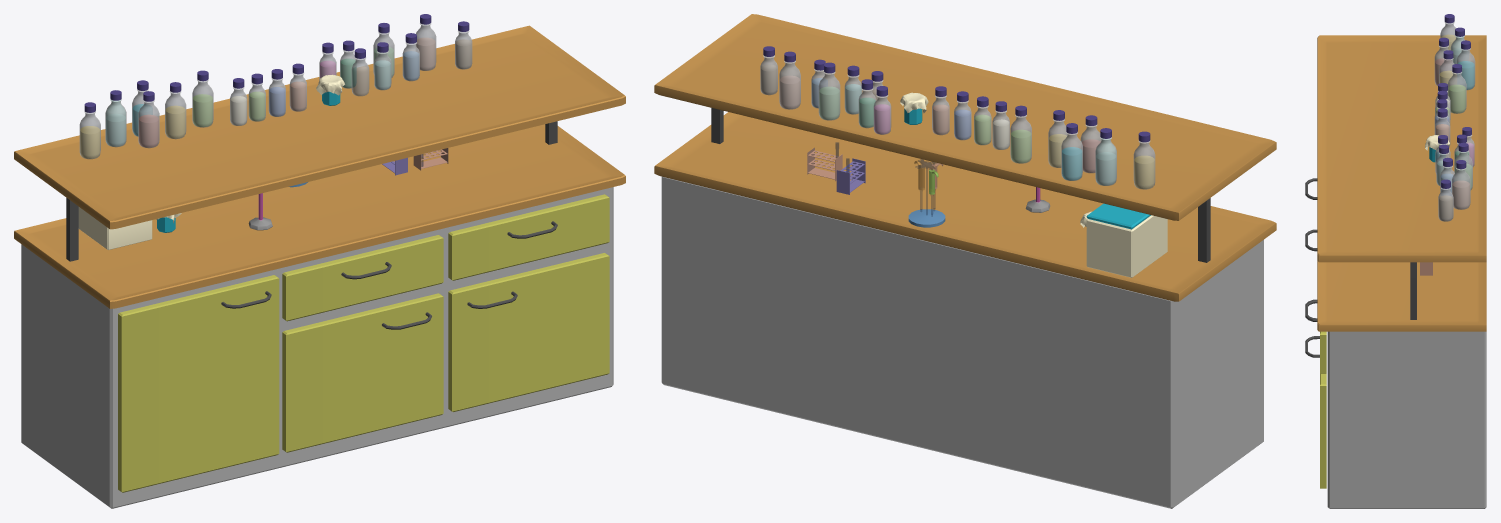
The model's file is lab table.fbx.
3 views of the same model, side by side, from view 1: azimuth 30°, elevation 25°; view 2: azimuth 150°, elevation 25°; view 3: azimuth 270°, elevation 25° (orthographic). The views are drawn at different scales.
Parts seen in each view (by area): view 1: Torus.001; view 2: Torus.001; view 3: Torus.001.
Part boxes in pixels (x1,y1,x2,y2): Torus.001: (14,14,625,508); Torus.001: (654,14,1276,508); Torus.001: (1305,14,1486,508).
Size of the model in its own units: 262 by 166 by 91.33.
2 materials, 2 textured.
